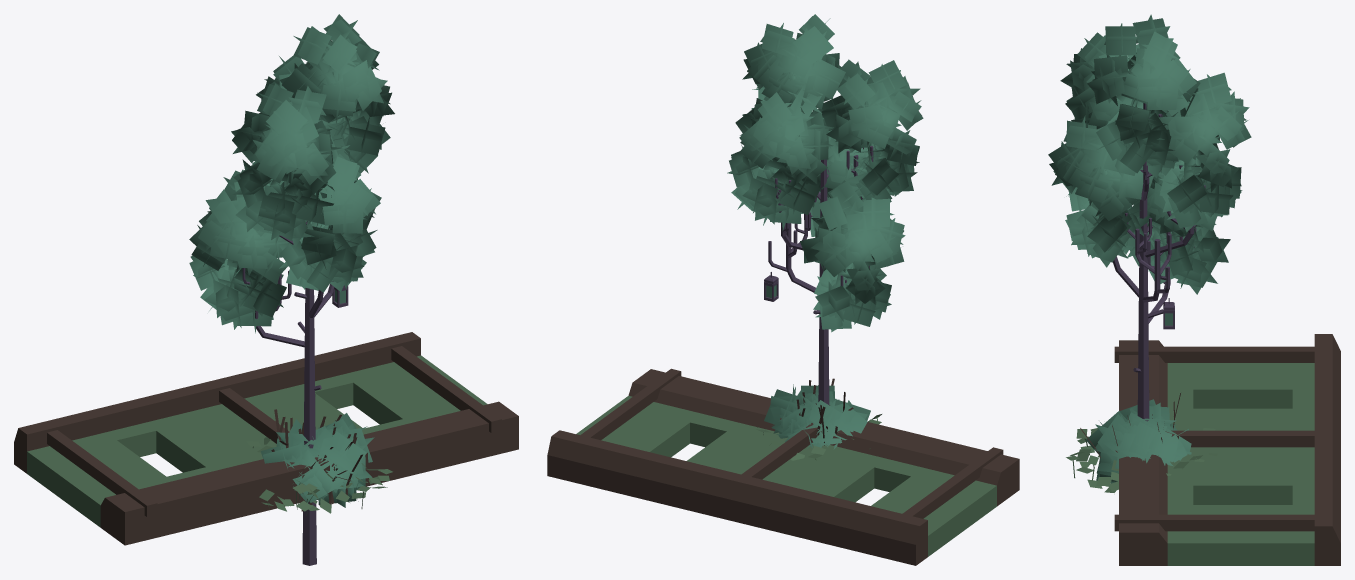
File: ENV.fbx
3 views of the same model, side by side, from view 1: azimuth 30°, elevation 25°; view 2: azimuth 150°, elevation 25°; view 3: azimuth 270°, elevation 25° (orthographic). The views are drawn at different scales.
Visible parts, largest first — view 1: Wall, Lodgepole Pine 4, Winter Berry Bush 1, Clover 1, Clumped Sticks 2; view 2: Wall, Lodgepole Pine 4, Winter Berry Bush 1; view 3: Wall, Lodgepole Pine 4, Winter Berry Bush 1, Clover 1.
Boxes of the visible parts, x1,y1,x2,y2 form: Wall: [14, 332, 518, 545]; Lodgepole Pine 4: [189, 14, 394, 565]; Winter Berry Bush 1: [261, 413, 374, 507]; Clover 1: [247, 437, 392, 515]; Clumped Sticks 2: [271, 409, 362, 511]; Wall: [547, 368, 1019, 565]; Lodgepole Pine 4: [727, 14, 923, 404]; Winter Berry Bush 1: [764, 384, 870, 449]; Wall: [1114, 334, 1340, 565]; Lodgepole Pine 4: [1048, 14, 1251, 421]; Winter Berry Bush 1: [1086, 399, 1191, 483]; Clover 1: [1066, 428, 1217, 492].
Bounding box in the file's own units: 641 × 827 × 412.
